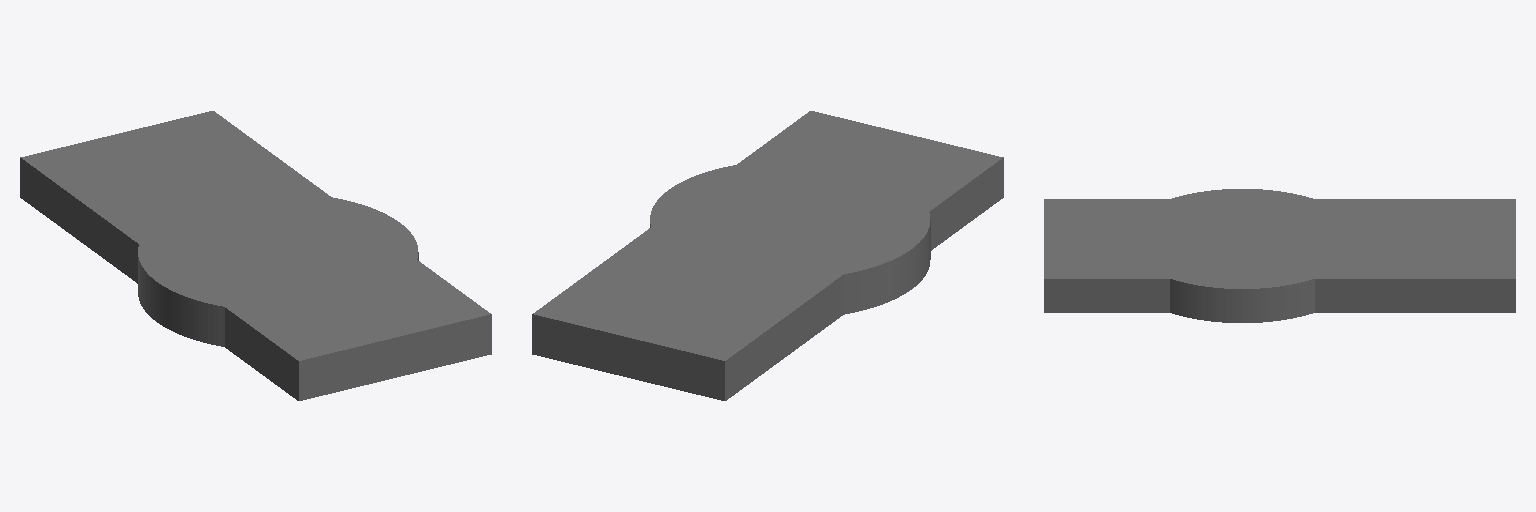
robot.urdf — float_wsg50:
<?xml version="1.0" ?>
<!-- =================================================================================== -->
<!-- |    This document was autogenerated by xacro from float_wsg50.xacro              | -->
<!-- |    EDITING THIS FILE BY HAND IS NOT RECOMMENDED                                 | -->
<!-- =================================================================================== -->
<robot name="float_wsg50" xmlns:controller="http://playerstage.sourceforge.net/gazebo/xmlschema/#controller" xmlns:interface="http://playerstage.sourceforge.net/gazebo/xmlschema/#interface" xmlns:sensor="http://playerstage.sourceforge.net/gazebo/xmlschema/#sensor">
  <material name="Black">
    <color rgba="0.0 0.0 0.0 1.0"/>
  </material>
  <material name="Blue">
    <color rgba="0.0 0.0 0.8 1.0"/>
  </material>
  <material name="Green">
    <color rgba="0.0 0.8 0.0 1.0"/>
  </material>
  <material name="Grey">
    <color rgba="0.4 0.4 0.4 1.0"/>
  </material>
  <material name="Orange">
    <color rgba="1.0 0.4235294117647059 0.0392156862745098 1.0"/>
  </material>
  <material name="Brown">
    <color rgba="0.8705882352941177 0.8117647058823529 0.7647058823529411 1.0"/>
  </material>
  <material name="Red">
    <color rgba="0.8 0.0 0.0 1.0"/>
  </material>
  <material name="White">
    <color rgba="1.0 1.0 1.0 1.0"/>
  </material>
  <material name="LightGrey">
    <color rgba="0.7 0.7 0.7 1"/>
  </material>
  <material name="DarkGray">
    <color rgba="0.2 0.2 0.2 1"/>
  </material>
  <material name="DarkDarkGray">
    <color rgba="0.1 0.1 0.1 1"/>
  </material>
  <!-- Make a base link. -->
  <link name="world" type="fixed">
    <inertial>
      <mass value="0"/>
      <inertia ixx="0" ixy="0" ixz="0" iyy="0" iyz="0" izz="0"/>
    </inertial>
  </link>
  <joint name="wsg50_plate_joint" type="fixed">
    <origin rpy="0 0 -1.5708" xyz="0 0 0"/>
    <!-- <origin xyz="0 0 0" rpy="0 0 -1.5708"/> -->
    <parent link="world"/>
    <child link="wsg50_plate"/>
  </joint>
  <!-- GRIPPER PLATE -->
  <link name="wsg50_plate">
    <inertial>
      <mass value="0.0"/>
      <!-- This is not the true mass -->
      <origin xyz="0 0 0"/>
      <inertia ixx="1.0" ixy="0.0" ixz="0.0" iyy="1.0" iyz="0.0" izz="1.0"/>
      <!-- This are not the true inertia -->
    </inertial>
    <visual>
      <origin rpy="0 0 0" xyz="0.0 0 0"/>
      <geometry>
        <mesh filename="package://meshes/wsg50/wsg50_plate.stl" scale="1 1 1"/>
        <!--box size="0.146 0.05 0.0735"/-->
      </geometry>
      <material name="grey">
        <color rgba="0.5 0.5 0.5 1"/>
      </material>
    </visual>
    <collision>
      <origin rpy="0 0 0" xyz="0.0 0 0"/>
      <geometry>
        <!--box size="0.146 0.05 0.0735"/-->
        <mesh filename="package://meshes/wsg50/wsg50_plate.stl" scale="1 1 1"/>
      </geometry>
    </collision>
  </link>
  <gazebo reference="wsg50_plate">
    <material>Gazebo/Grey</material>
    <turnGravityOff>false</turnGravityOff>
  </gazebo>
  <!-- GRIPPER -->
  <joint name="wsg50_anterior_gripper_joint" type="fixed">
    <origin rpy="0 0 0" xyz="0 0 0.01"/>
    <!-- <origin xyz="0 0 0" rpy="0 0 -1.5708"/> -->
    <parent link="wsg50_plate"/>
    <child link="wsg50_base_link"/>
  </joint>
  <!-- BASE LINK -->
  <link name="wsg50_base_link">
    <inertial>
      <mass value="1.48"/>
      <origin xyz="0.00363 -0.00829 0.015"/>
      <!--inertia ixx="1.0" ixy="0.0" ixz="0.0"
                    iyy="100.0" iyz="0.0"
                    izz="1.0" /-->
      <inertia ixx="0.0" ixy="0.0" ixz="0.0" iyy="0.0" iyz="0.0" izz="0.0"/>
    </inertial>
    <visual>
      <origin rpy="0 0 0" xyz="0.0 0 0"/>
      <geometry>
        <mesh filename="package://meshes/wsg50/WSG50_110.stl" scale="1 1 1"/>
        <!--box size="0.146 0.05 0.0735"/-->
      </geometry>
      <material name="grey">
        <color rgba="0.5 0.5 0.5 1"/>
      </material>
    </visual>
    <collision>
      <origin rpy="0 0 0" xyz="0.0 0 0"/>
      <geometry>
        <!--box size="0.146 0.05 0.0735"/-->
        <mesh filename="package://meshes/wsg50/WSG50_110.stl" scale="1 1 1"/>
      </geometry>
    </collision>
  </link>
  <gazebo reference="wsg50_base_link">
    <material>Gazebo/Grey</material>
    <turnGravityOff>false</turnGravityOff>
  </gazebo>
  <joint name="wsg50_center_joint" type="fixed">
    <origin rpy="0 0 0" xyz="0 0 0.023"/>
    <!--origin xyz="-0.0067 0 0.049" rpy="0 0 0" /-->
    <parent link="wsg50_base_link"/>
    <child link="wsg50_center"/>
  </joint>
  <link name="wsg50_center">
    <inertial>
      <mass value="0"/>
      <inertia ixx="0" ixy="0" ixz="0" iyy="0" iyz="0" izz="0"/>
    </inertial>
  </link>
  <!-- GRIPPER LEFT -->
  <joint name="wsg50_finger_left_joint" type="prismatic">
    <limit effort="1.0" lower="-0.055" upper="-0.03" velocity="1.0"/>
    <origin rpy="0 0 0" xyz="0 0 0"/>
    <!--origin xyz="-0.0067 0 0.049" rpy="0 0 0" /-->
    <parent link="wsg50_base_link"/>
    <child link="wsg50_gripper_left"/>
    <dynamics damping="100" friction="100"/>
    <axis xyz="1 0 0"/>
  </joint>
  <transmission name="wsg50_base_trans_left">
    <type>transmission_interface/SimpleTransmission</type>
    <actuator name="wsg50_base_motor_left">
      <mechanicalReduction>1</mechanicalReduction>
    </actuator>
    <joint name="wsg50_finger_left_joint">
      <hardwareInterface>hardware_interface/PositionJointInterface</hardwareInterface>
    </joint>
  </transmission>
  <link name="wsg50_gripper_left">
    <inertial>
      <mass value="0.1"/>
      <origin xyz="0 0 0"/>
      <inertia ixx="1.0" ixy="0.0" ixz="0.0" iyy="1.0" iyz="0.0" izz="1.0"/>
    </inertial>
    <visual>
      <origin rpy="0 0 0" xyz="0.0 0 0"/>
      <geometry>
        <mesh filename="package://meshes/wsg50/GUIDE_WSG50_110.stl" scale="0.001 0.001 0.001"/>
        <!--box size="0.0175 0.03 0.024"/-->
      </geometry>
      <material name="black">
        <color rgba="0 0 0 1"/>
      </material>
    </visual>
    <collision>
      <origin rpy="0 0 0" xyz="0 0 0"/>
      <geometry>
        <!--box size="0.0175 0.03 0.024"/-->
        <mesh filename="package://meshes/wsg50/GUIDE_WSG50_110.stl" scale="0.001 0.001 0.001"/>
      </geometry>
    </collision>
    <contact_coefficients kd="1.0" kp="1000.0" mu="0"/>
  </link>
  <gazebo reference="wsg50_gripper_left">
    <material>Gazebo/Blue</material>
    <turnGravityOff>false</turnGravityOff>
  </gazebo>
  <!-- GRIPPER RIGHT -->
  <joint name="wsg50_finger_right_joint" type="prismatic">
    <limit effort="1.0" lower="0.03" upper="0.055" velocity="1.0"/>
    <origin rpy="0 0 3.14159" xyz="0 0 0"/>
    <parent link="wsg50_base_link"/>
    <child link="wsg50_gripper_right"/>
    <axis xyz="-1 0 0"/>
    <dynamics damping="100" friction="100"/>
  </joint>
  <transmission name="wsg50_base_trans_right">
    <type>transmission_interface/SimpleTransmission</type>
    <actuator name="wsg50_base_motor_right">
      <mechanicalReduction>1</mechanicalReduction>
    </actuator>
    <joint name="wsg50_finger_right_joint">
      <hardwareInterface>hardware_interface/PositionJointInterface</hardwareInterface>
    </joint>
  </transmission>
  <link name="wsg50_gripper_right">
    <inertial>
      <mass value="0.1"/>
      <origin xyz="0 0 0"/>
      <inertia ixx="1.0" ixy="0.0" ixz="0.0" iyy="1.0" iyz="0.0" izz="1.0"/>
    </inertial>
    <visual>
      <origin rpy="0 0 0" xyz="0.0 0 0"/>
      <geometry>
        <mesh filename="package://meshes/wsg50/GUIDE_WSG50_110.stl" scale="0.001 0.001 0.001"/>
        <!--box size="0.0175 0.03 0.024"/-->
      </geometry>
      <material name="black">
        <color rgba="0 0 0 1"/>
      </material>
    </visual>
    <collision>
      <origin rpy="0 0 0" xyz="0 0 0"/>
      <geometry>
        <!--box size="0.0175 0.03 0.024"/-->
        <mesh filename="package://meshes/wsg50/GUIDE_WSG50_110.stl" scale="0.001 0.001 0.001"/>
      </geometry>
    </collision>
    <contact_coefficients kd="1.0" kp="1000.0" mu="0"/>
  </link>
  <gazebo reference="gripper_right">
    <material>Gazebo/White</material>
    <turnGravityOff>false</turnGravityOff>
  </gazebo>
  <!--  ~~~~~~~~~~~~~~~~~~~~~~~~~~~~~~~~~~~~~~~~~~~~~~~~~~~~~~~~~~~~~~~~~~~~~~~~~~~~~~~~~~~~~~~      -->
  <!--  ~~~~~~~~ FINGERS ~~~~~~~~~~~~~~~~~~~~~~~~~~~~~~~~~~~~~~~~~~~~~~~~~~~~~~~~~~~~~~~~~~~~~~      -->
  <!--  ~~~~~~~~~~~~~~~~~~~~~~~~~~~~~~~~~~~~~~~~~~~~~~~~~~~~~~~~~~~~~~~~~~~~~~~~~~~~~~~~~~~~~~~      -->
  <!-- Flipped Bubbles -->
  <!-- LEFT FINGER -->
  <joint name="wsg50_guide_joint_finger_left" type="fixed">
    <origin rpy="0 0 0" xyz="-0.009 0 .089"/>
    <parent link="wsg50_gripper_left"/>
    <child link="wsg50_finger_left"/>
    <dynamics damping="100" friction="100"/>
    <axis xyz="1 0 0"/>
    <limit effort="100" velocity="100"/>
  </joint>
  <link name="wsg50_finger_left">
    <inertial>
      <mass value="0.1"/>
      <origin xyz="0 0 0"/>
      <inertia ixx="1.0" ixy="0.0" ixz="0.0" iyy="1.0" iyz="0.0" izz="1.0"/>
    </inertial>
    <visual>
      <origin rpy="0 -1.8661 0" xyz="-0.0252755 0 0.0434163"/>
      <geometry>
        <mesh filename="package://meshes/bubbles/collision/bubble_flipped.stl" scale="0.001 0.001 0.001"/>
      </geometry>
      <material name="pastel">
        <color rgba="0.8588 0.5255 0.6588 1"/>
      </material>
    </visual>
    <collision>
      <origin rpy="0 -1.8661 0" xyz="-0.0252755 0 0.0434163"/>
      <geometry>
        <mesh filename="package://meshes/bubbles/collision/bubble_flipped.stl" scale="0.001 0.001 0.001"/>
      </geometry>
    </collision>
    <contact_coefficients kd="1.0" kp="1000.0" mu="0"/>
  </link>
  <!-- LEFT CAMERA FRAME -->
  <joint name="wsg50_left_bubble_camera_frame_fake_joint" type="fixed">
    <origin rpy="0 -1.8661 0" xyz="-0.0252755 0 0.0434163"/>
    <parent link="wsg50_finger_left"/>
    <child link="left_bubble_camera_frame"/>
  </joint>
  <link name="left_bubble_camera_frame">
    <inertial>
      <mass value="0.0"/>
      <origin xyz="0 0 0"/>
      <inertia ixx="0.0" ixy="0.0" ixz="0.0" iyy="0.0" iyz="0.0" izz="0.0"/>
    </inertial>
  </link>
  <!-- RIGHT FINGER -->
  <joint name="wsg50_guide_joint_finger_right" type="fixed">
    <origin rpy="0 0 0" xyz="-0.009 0 .089"/>
    <parent link="wsg50_gripper_right"/>
    <child link="wsg50_finger_right"/>
    <dynamics damping="100" friction="100"/>
    <axis xyz="1 0 0"/>
    <limit effort="100" velocity="100"/>
  </joint>
  <link name="wsg50_finger_right">
    <inertial>
      <mass value="0.1"/>
      <origin xyz="0 0 0"/>
      <inertia ixx="1.0" ixy="0.0" ixz="0.0" iyy="1.0" iyz="0.0" izz="1.0"/>
    </inertial>
    <visual>
      <origin rpy="0 -1.8661 0" xyz="-0.0252755 0 0.0434163"/>
      <geometry>
        <mesh filename="package://meshes/bubbles/collision/bubble_flipped.stl" scale="0.001 0.001 0.001"/>
      </geometry>
      <material name="pastel">
        <color rgba="0.8588 0.5255 0.6588 1"/>
      </material>
    </visual>
    <collision>
      <origin rpy="0 -1.8661 0" xyz="-0.0252755 0 0.0434163"/>
      <geometry>
        <mesh filename="package://meshes/bubbles/visual/bubble_flipped.stl" scale="0.001 0.001 0.001"/>
      </geometry>
    </collision>
    <contact_coefficients kd="1.0" kp="1000.0" mu="0"/>
    <contact_coefficients kd="1.0" kp="1000.0" mu="0"/>
  </link>
  <!-- RIGHT CAMERA FRAME -->
  <joint name="wsg50_right_bubble_camera_frame_fake_joint" type="fixed">
    <origin rpy="0 -1.8661 0" xyz="-0.0252755 0 0.0434163"/>
    <parent link="wsg50_finger_right"/>
    <child link="right_bubble_camera_frame"/>
  </joint>
  <link name="right_bubble_camera_frame">
    <inertial>
      <mass value="0.0"/>
      <origin xyz="0 0 0"/>
      <inertia ixx="0.0" ixy="0.0" ixz="0.0" iyy="0.0" iyz="0.0" izz="0.0"/>
    </inertial>
  </link>
  <gazebo reference="wsg50_finger_left">
    <material>Gazebo/Blue</material>
    <turnGravityOff>false</turnGravityOff>
  </gazebo>
  <gazebo reference="wsg50_finger_right">
    <material>Gazebo/White</material>
    <turnGravityOff>false</turnGravityOff>
  </gazebo>
  <!-- GRASP FRAME -->
  <joint name="wsg50_grasp_frame_fake_joint" type="fixed">
    <!-- BUBBLES -->
    <origin rpy="0 0 0" xyz="0 0 0.194"/>
    <!-- May be worth considering the parameter finger_tip-->
    <!-- <origin xyz="0 0 0" rpy="0 0 -1.5708"/> -->
    <parent link="wsg50_base_link"/>
    <child link="grasp_frame"/>
  </joint>
  <link name="grasp_frame">
    <inertial>
      <mass value="0.0"/>
      <origin xyz="0 0 0"/>
      <inertia ixx="0.0" ixy="0.0" ixz="0.0" iyy="0.0" iyz="0.0" izz="0.0"/>
    </inertial>
  </link>
  <!-- RIGHT FINGER TIP FRAME -->
  <joint name="wsg50_right_finger_tip_fake_joint" type="fixed">
    <origin rpy="0 0 3.14159" xyz="0 0 0.121"/>
    <!-- May be worth considering the parameter finger_tip-->
    <!-- <origin xyz="0 0 0" rpy="0 0 -1.5708"/> -->
    <parent link="wsg50_finger_right"/>
    <child link="wsg50_finger_right_tip"/>
  </joint>
  <link name="wsg50_finger_right_tip">
    <inertial>
      <mass value="0.0"/>
      <origin xyz="0 0 0"/>
      <inertia ixx="0.0" ixy="0.0" ixz="0.0" iyy="0.0" iyz="0.0" izz="0.0"/>
    </inertial>
  </link>
  <!-- LEFT FINGER TIP FRAME -->
  <joint name="wsg50_left_finger_tip_fake_joint" type="fixed">
    <origin rpy="0 0 0" xyz="0 0 0.121"/>
    <!-- May be worth considering the parameter finger_tip-->
    <!-- <origin xyz="0 0 0" rpy="0 0 -1.5708"/> -->
    <parent link="wsg50_finger_left"/>
    <child link="wsg50_finger_left_tip"/>
  </joint>
  <link name="wsg50_finger_left_tip">
    <inertial>
      <mass value="0.0"/>
      <origin xyz="0 0 0"/>
      <inertia ixx="0.0" ixy="0.0" ixz="0.0" iyy="0.0" iyz="0.0" izz="0.0"/>
    </inertial>
  </link>
</robot>

--- What the picture shows (computed from the rendered views, not written in the file) ---
Views: 3 orthographic renders of the robot side by side, from view 1: azimuth 30°, elevation 25°; view 2: azimuth 150°, elevation 25°; view 3: azimuth 270°, elevation 25°.
Model float_wsg50 with 13 links and 12 joints (2 prismatic, 10 fixed), rooted at world, posed joints at zero except 2 at the middle of their limits (wsg50_finger_left_joint = -0.0425, wsg50_finger_right_joint = 0.0425).
Links seen in each view (by area): view 1: wsg50_plate; view 2: wsg50_plate; view 3: wsg50_plate.
Link boxes in pixels (x1=…): wsg50_plate: x1=20, y1=111, x2=491, y2=400; wsg50_plate: x1=532, y1=111, x2=1003, y2=400; wsg50_plate: x1=1044, y1=189, x2=1515, y2=322.
Bounding box of the posed robot: 0.063 × 0.125 × 0.01 m (x, y, z).
1 mesh visuals loaded from 4 distinct referenced files (1 binary STL); not drawn: 5 (reference not matched to a file when rendering).